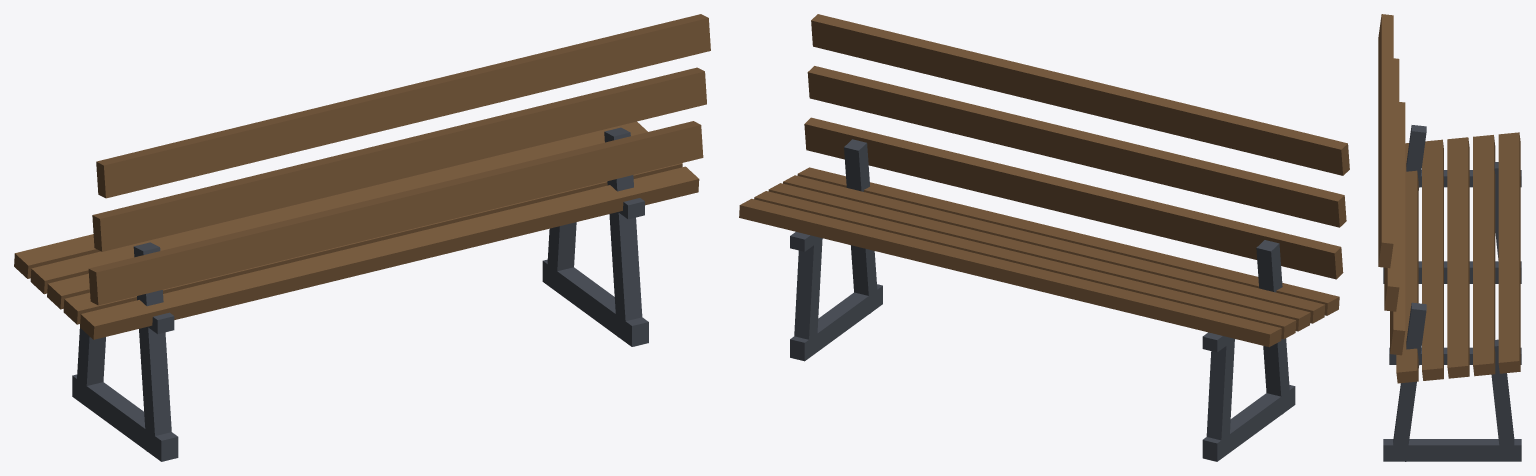
File: park_bench.glb
The picture shows the model from 3 angles, left to right: view 1: azimuth 30°, elevation 25°; view 2: azimuth 150°, elevation 25°; view 3: azimuth 270°, elevation 25°; orthographic projection. The views are drawn at different scales.
Visible parts, largest first — view 1: Bench_Wood, Bench_Leg; view 2: Bench_Wood, Bench_Leg; view 3: Bench_Wood, Bench_Leg.
Part boxes in pixels (<box>): Bench_Wood: <box>14,14,710,339</box>; Bench_Leg: <box>72,127,648,461</box>; Bench_Wood: <box>739,14,1349,347</box>; Bench_Leg: <box>790,139,1295,461</box>; Bench_Wood: <box>1378,14,1520,383</box>; Bench_Leg: <box>1383,125,1521,461</box>.
Bounding box in the file's own units: 0.18 × 0.0887 × 0.0477.
